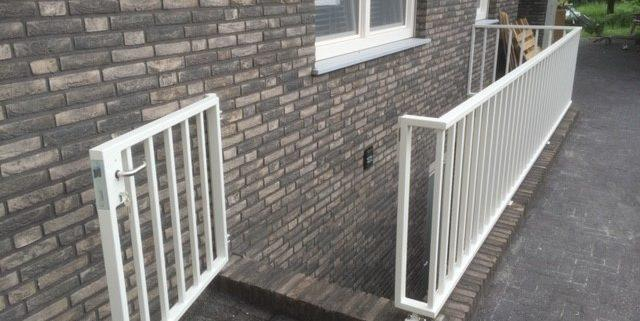obstacle: (0, 87, 640, 233)
